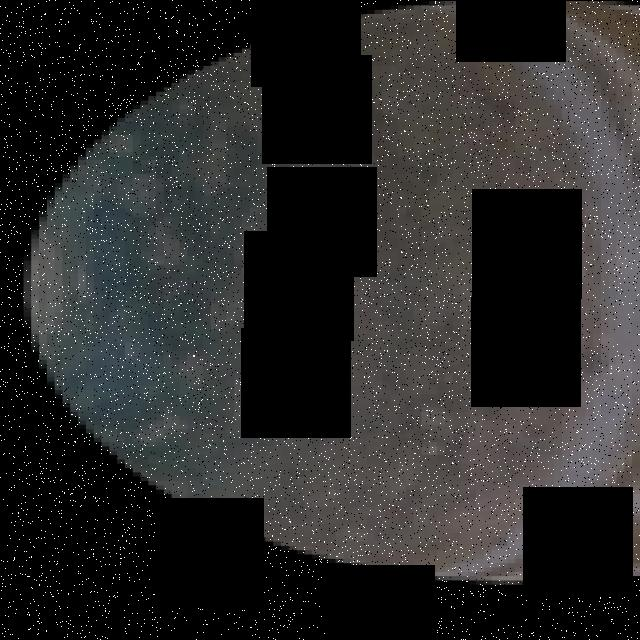Jupiter: (23, 0, 640, 584)
